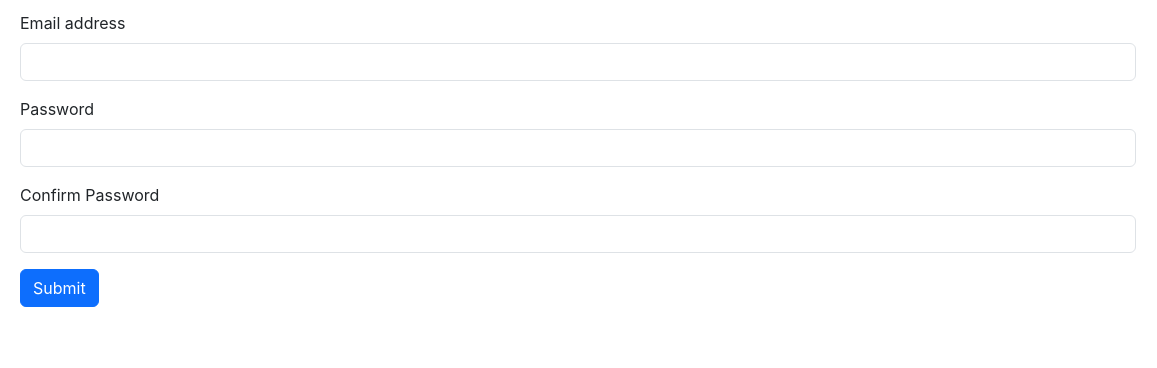
Test: show err › should show confirm password error if password not match
Type "zhang@gmail.com" into the field labelled "Email address".
click(578, 62); type("zhang@gmail.com")  # box [20,43,1136,81]
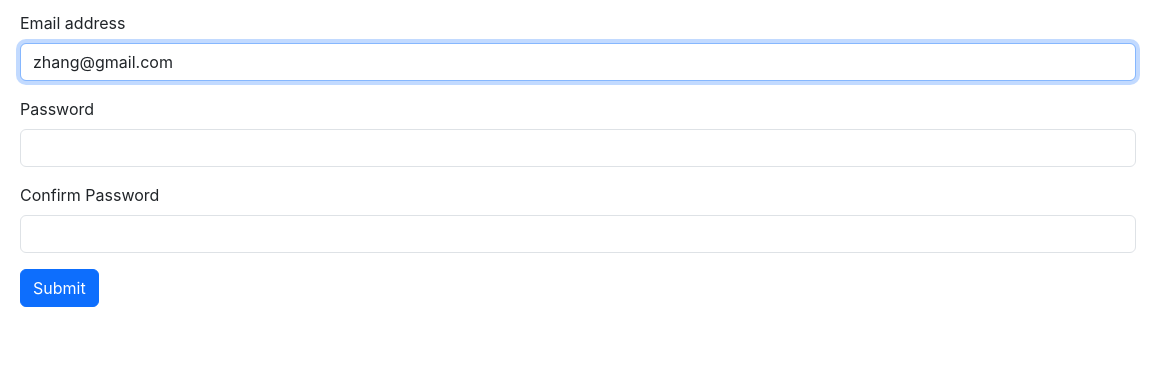
Type "12345" into the password field labelled "Password".
click(578, 148); type("12345")  # box [20,129,1136,167]
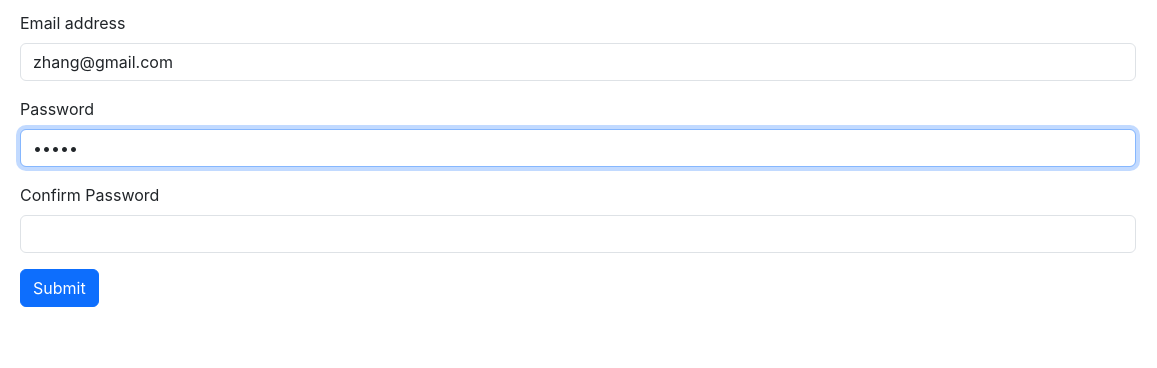
Type "123456" into the password field labelled "Confirm Password".
click(578, 234); type("123456")  # box [20,215,1136,253]
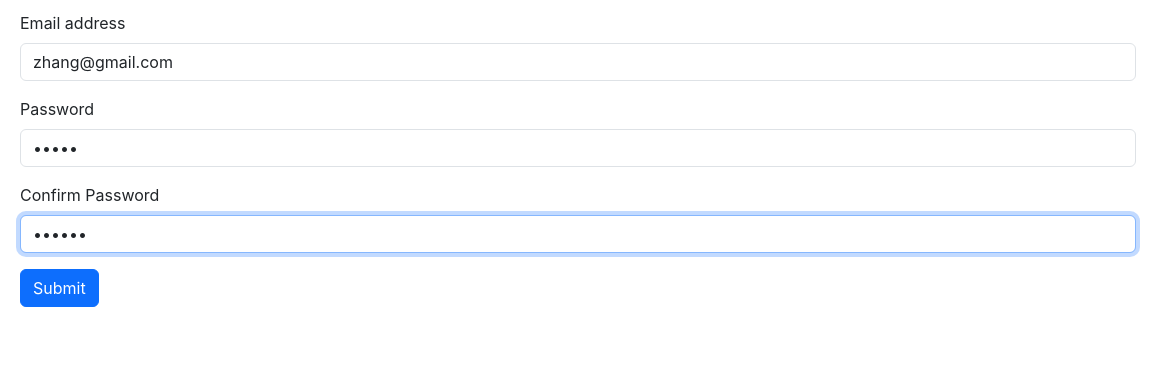
Click the button with test id "button".
click(59, 288)  # box [20,269,99,307]
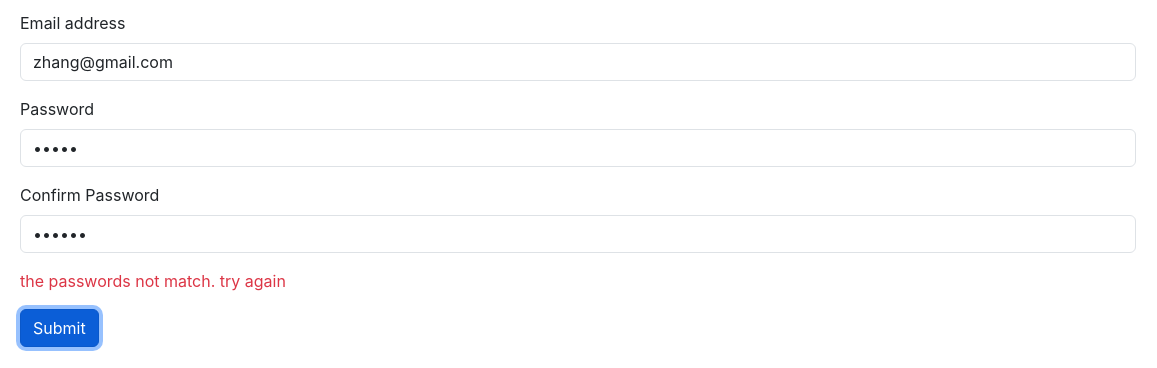
Result: the text "the passwords not match. try again" is shown at [20,271,286,291]
